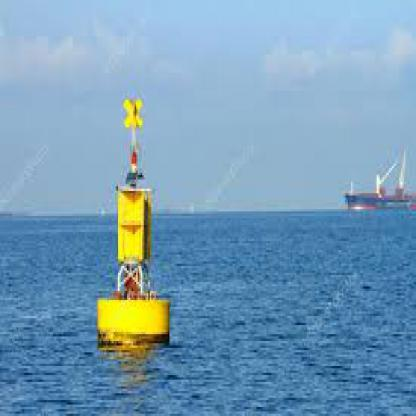buoy: (91, 89, 174, 354)
